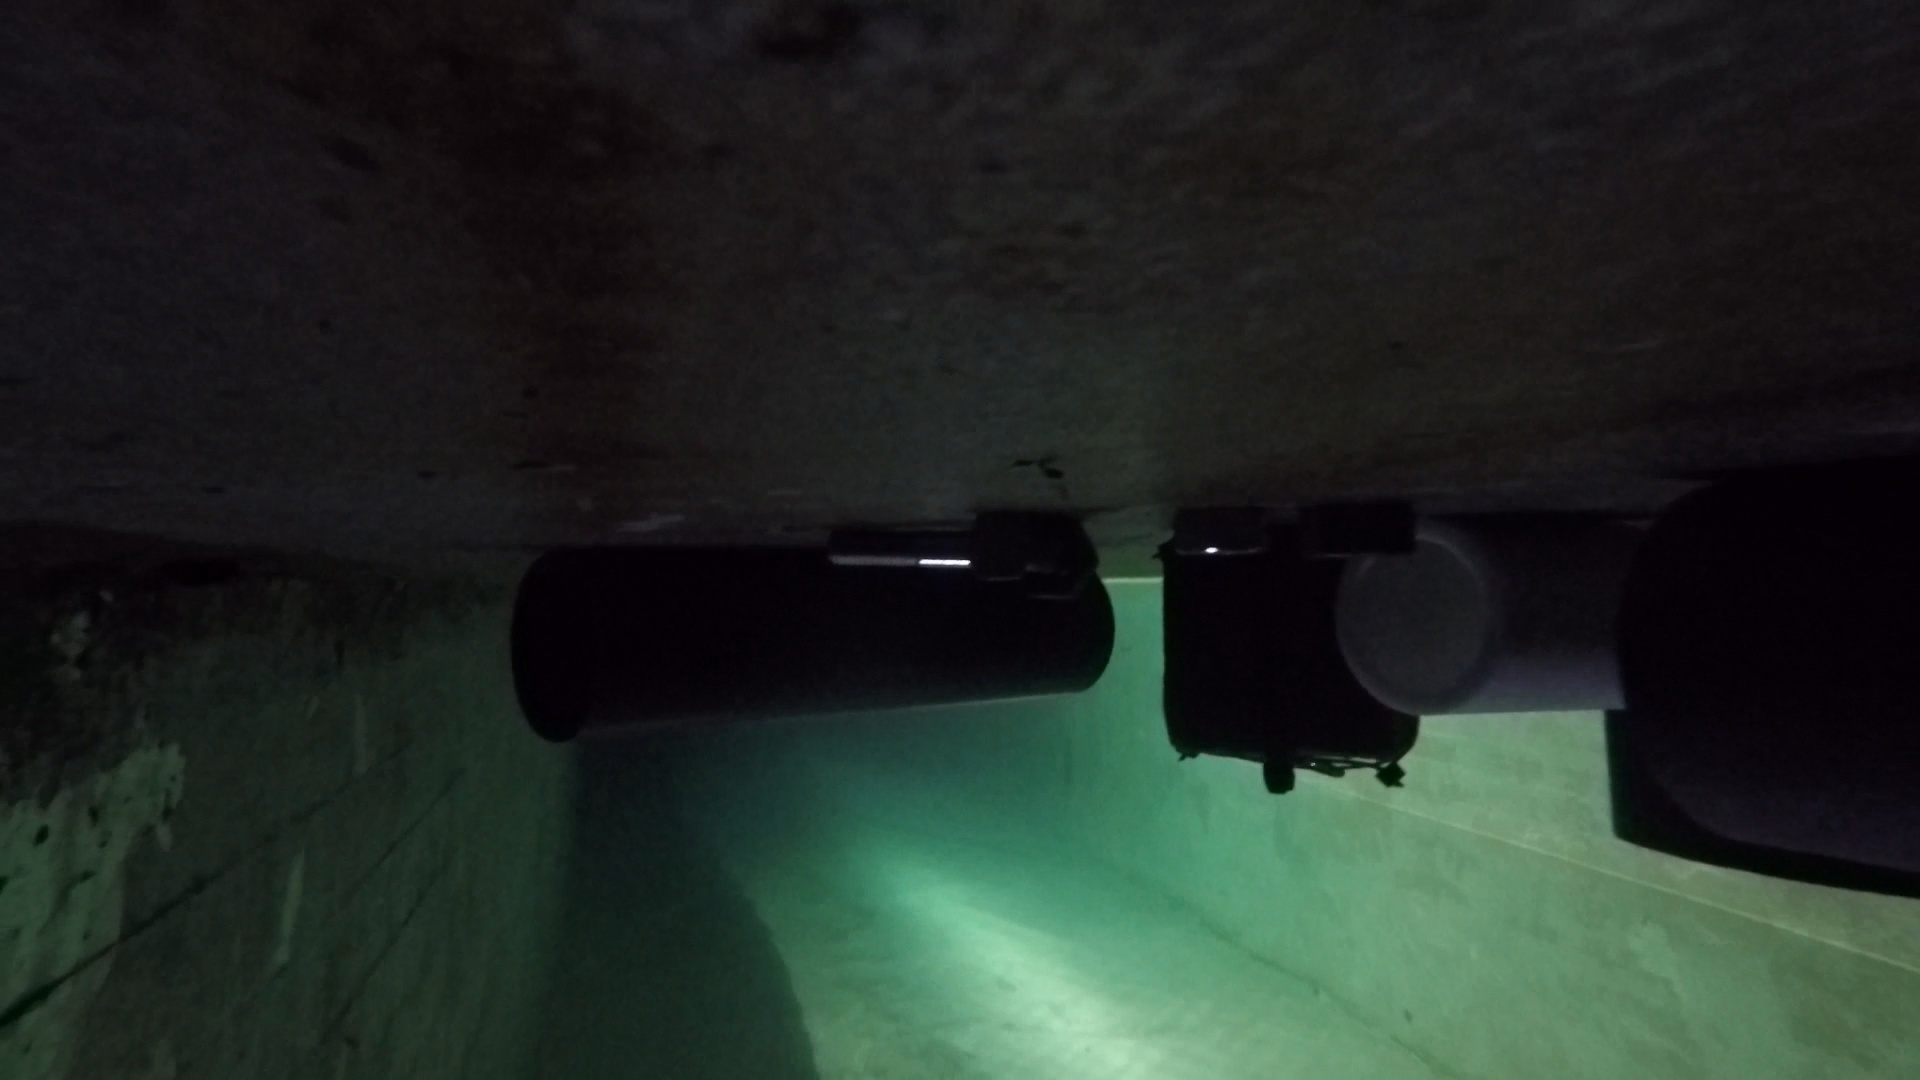bolt: (824, 527, 993, 574), (972, 512, 1064, 585)
led_block: (1153, 542, 1418, 795)
nut: (1305, 502, 1419, 560), (1038, 512, 1101, 600), (1170, 506, 1274, 556)
pipe: (509, 541, 1116, 745), (1633, 447, 1919, 874), (1335, 512, 1643, 716)
